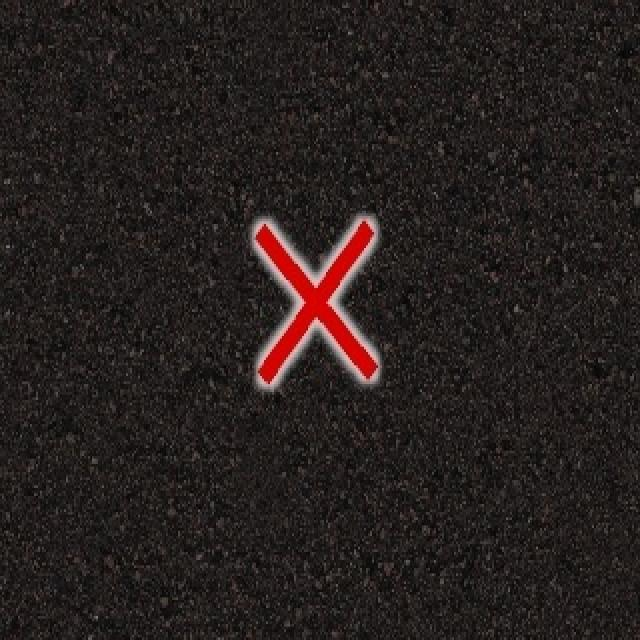x_marker: (255, 220, 375, 383)
